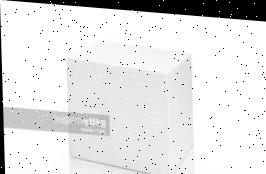cube: (62, 40, 194, 174)
